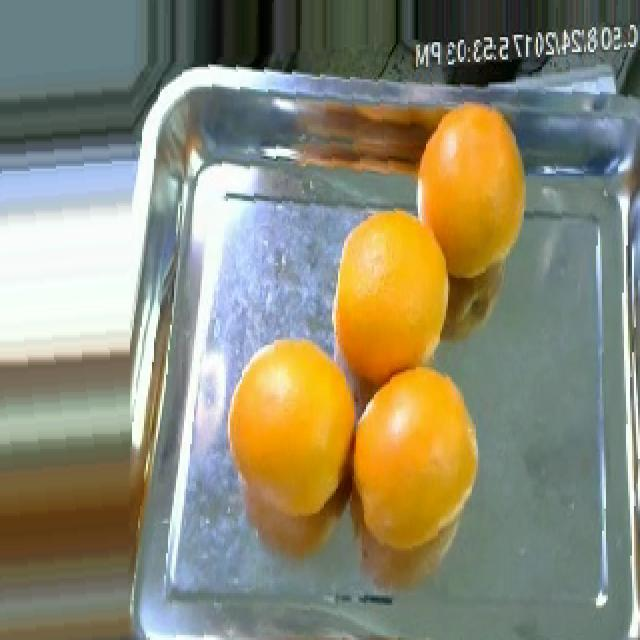Good_Orange: (228, 340, 356, 511), (354, 367, 476, 543), (332, 211, 448, 372), (416, 104, 526, 270)
